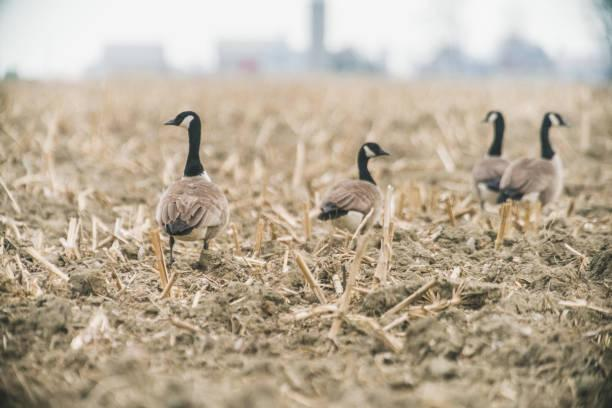Canadian-Goose: (162, 111, 229, 263), (502, 111, 565, 205), (317, 142, 390, 223), (472, 108, 510, 203)
